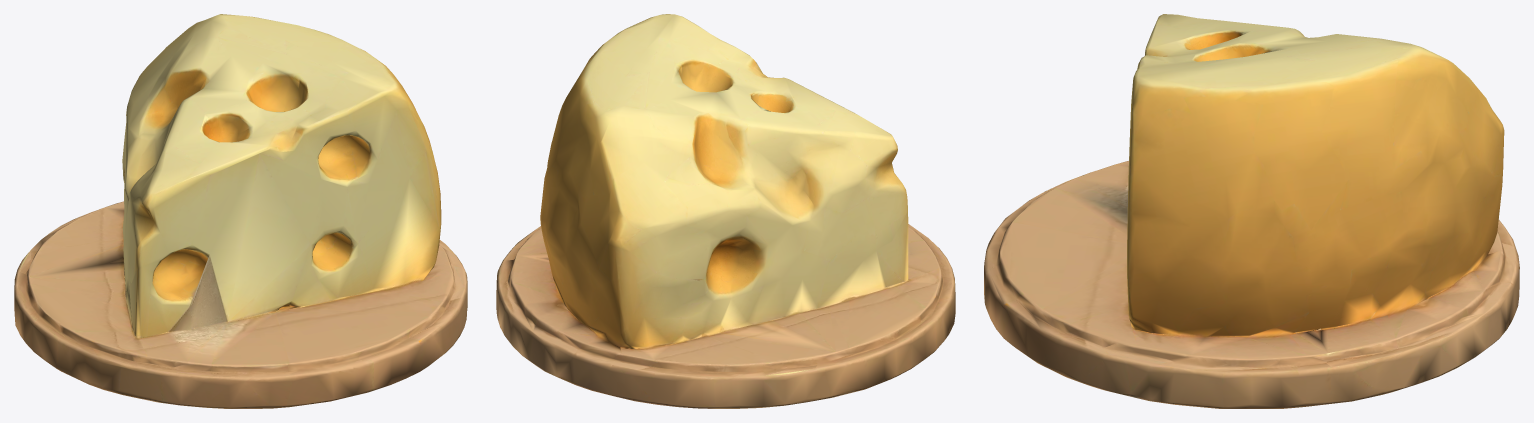
File: token-cheese.glb
3 renders of one model, left to right at view 1: azimuth 30°, elevation 25°; view 2: azimuth 150°, elevation 25°; view 3: azimuth 270°, elevation 25°, orthographic. The views are drawn at different scales.
Bounding box in the file's own units: 1.9 × 1.11 × 1.9.
1 material, 1 textured.
